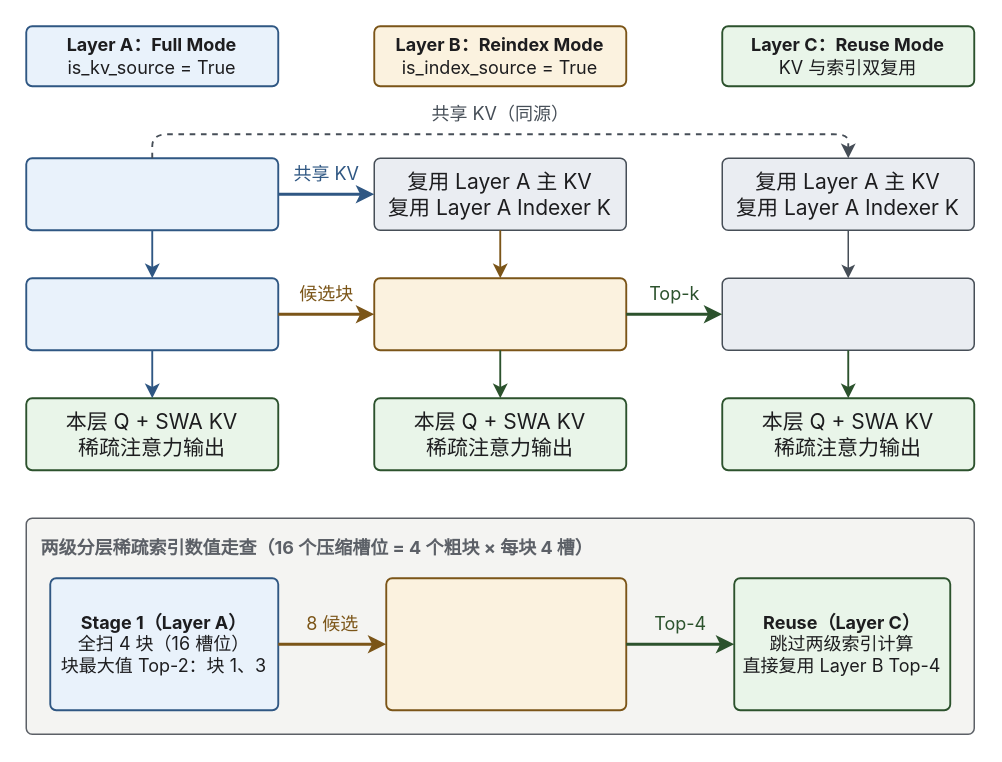
Some shapes in this 1002 by 762 pixel diagram are drawn without their labels. The centre of each missing label's shape, as x and y in pixels:
0 次索引打分 读 Top-k 缓冲区: the point at 847,313
Stage 2（Layer B） 只重打分块 1、块 3（8 槽） 精筛本层 Top-4 索引: the point at 506,644
仅重算 Top-2 块（8 槽） 产出新 Top-4 索引: the point at 500,314
全扫 16 槽位，输出 Top-2 块与 Top-4: the point at 152,314
压缩生成主 KV 投影生成 Indexer K: the point at 152,194
